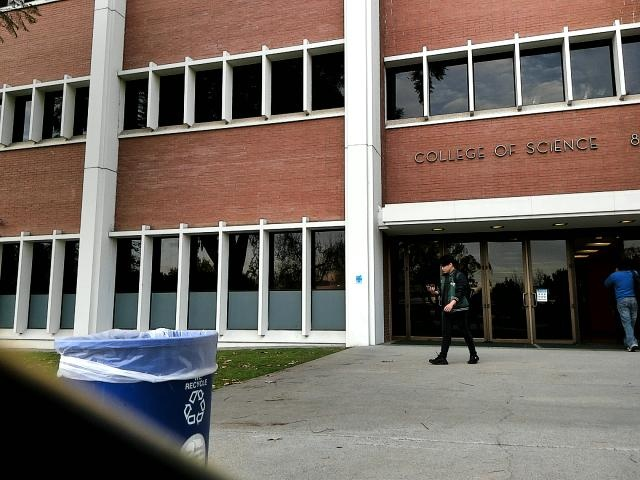trashcan_open: (41, 325, 229, 480)
